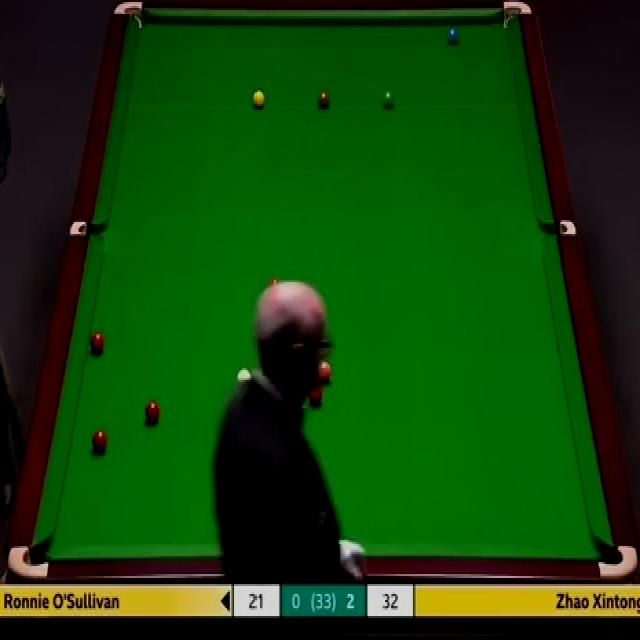blue-ball: (445, 22, 461, 47)
brown-ball: (317, 91, 331, 111)
green-ball: (382, 90, 396, 112)
pink-ball: (314, 361, 332, 385)
red-ball: (92, 428, 108, 456), (144, 401, 160, 428), (307, 383, 324, 405), (89, 331, 104, 355)
white-ball: (234, 368, 254, 386)
yellow-ball: (252, 90, 266, 110)
